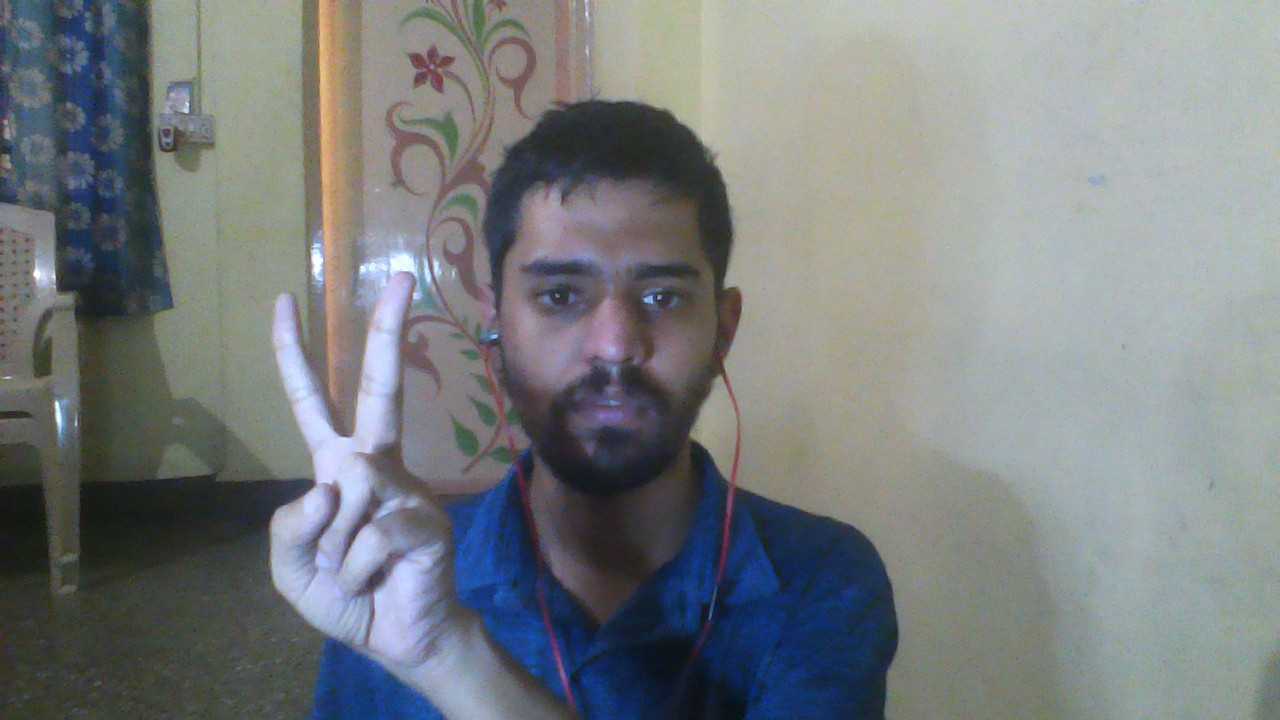v: (215, 252, 481, 682)
